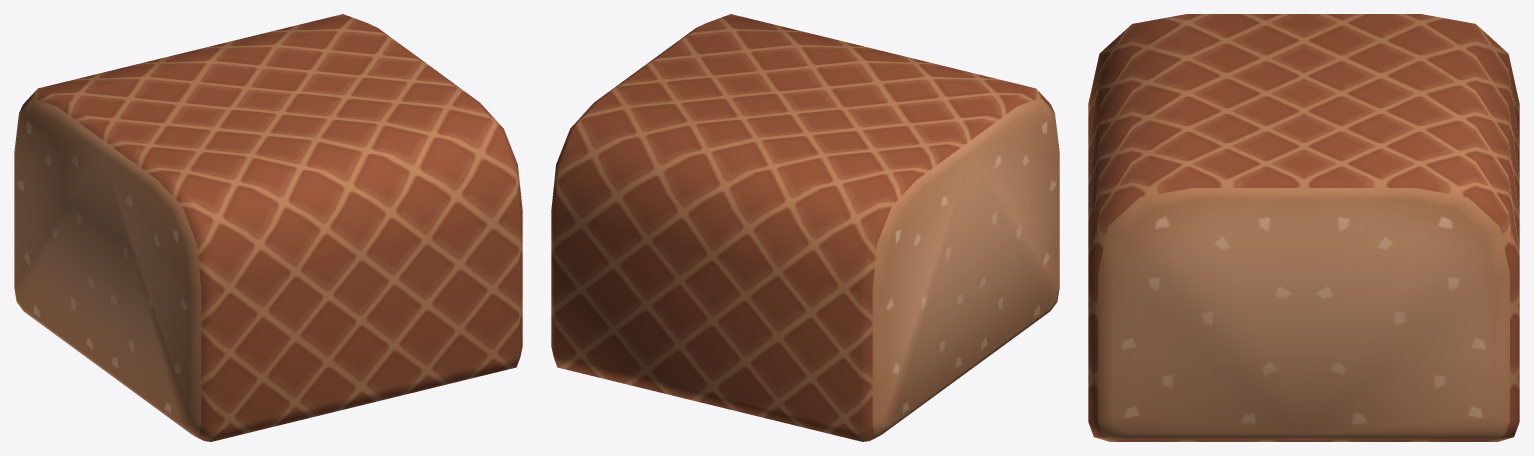
File: ham.FBX
The picture shows the model from 3 angles, left to right: view 1: azimuth 30°, elevation 25°; view 2: azimuth 150°, elevation 25°; view 3: azimuth 270°, elevation 25°; orthographic projection. The views are drawn at different scales.
Parts seen in each view (by area): view 1: ham; view 2: ham; view 3: ham.
Part boxes in pixels (x1,y1,x2,y2): ham: [14, 14, 522, 441]; ham: [551, 14, 1059, 441]; ham: [1088, 14, 1519, 441].
Bounding box in the file's own units: 33 × 22.79 × 33.72.
